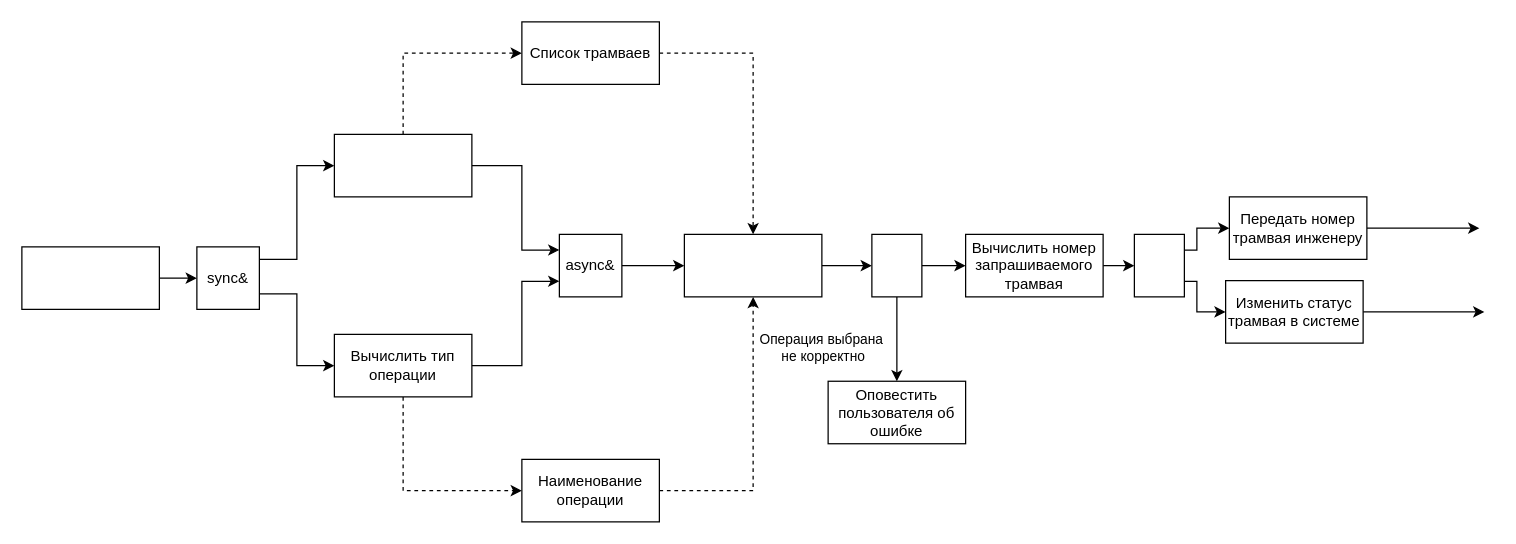
Image size: 1516x544. Some labels were removed from this diagram. The shapes that lost their labels are listed below. From the top down, each one's centre as x and y in pixels, then its label:
At (x=402, y=165): "Получить информацию о трамваях".
At (x=90, y=277): "Принять запрос главного инженера".
At (x=752, y=265): "Проверить корректность операции".
At (x=896, y=265): "XOR".
At (x=1158, y=265): "syncO".
